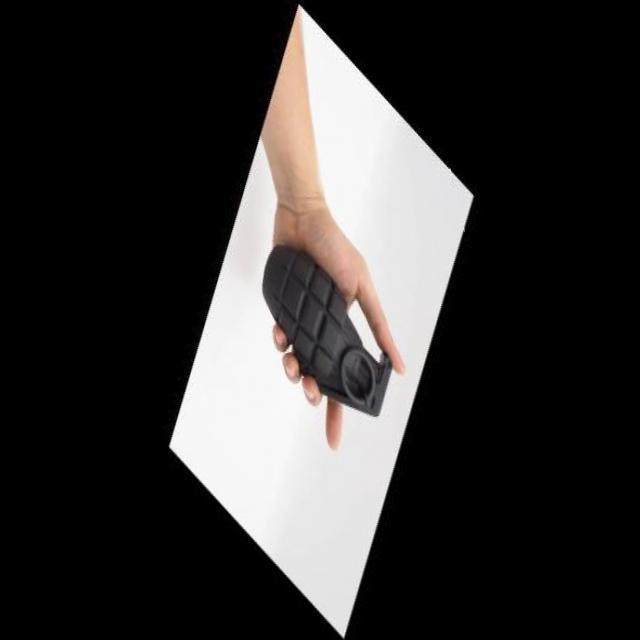grenade: (246, 208, 404, 445)
